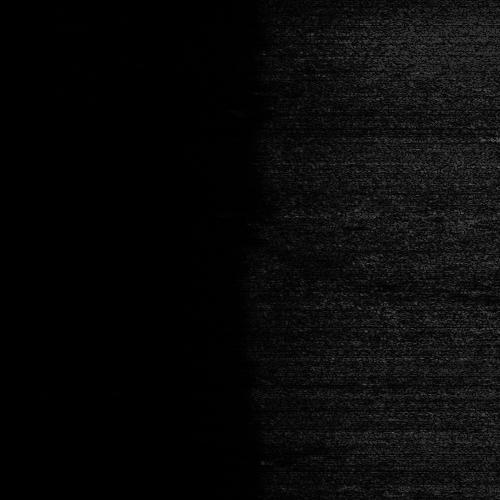rock: (463, 213, 500, 220)
shadow: (490, 213, 500, 220)
